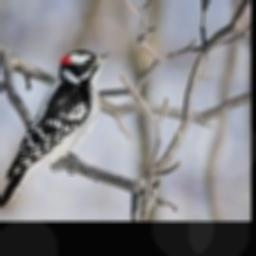Woodpecker: (0, 50, 112, 210)
